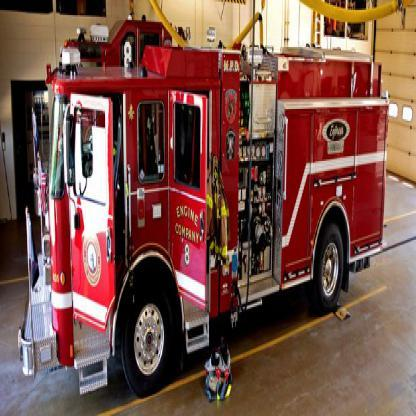fire-truck: (15, 15, 400, 399)
